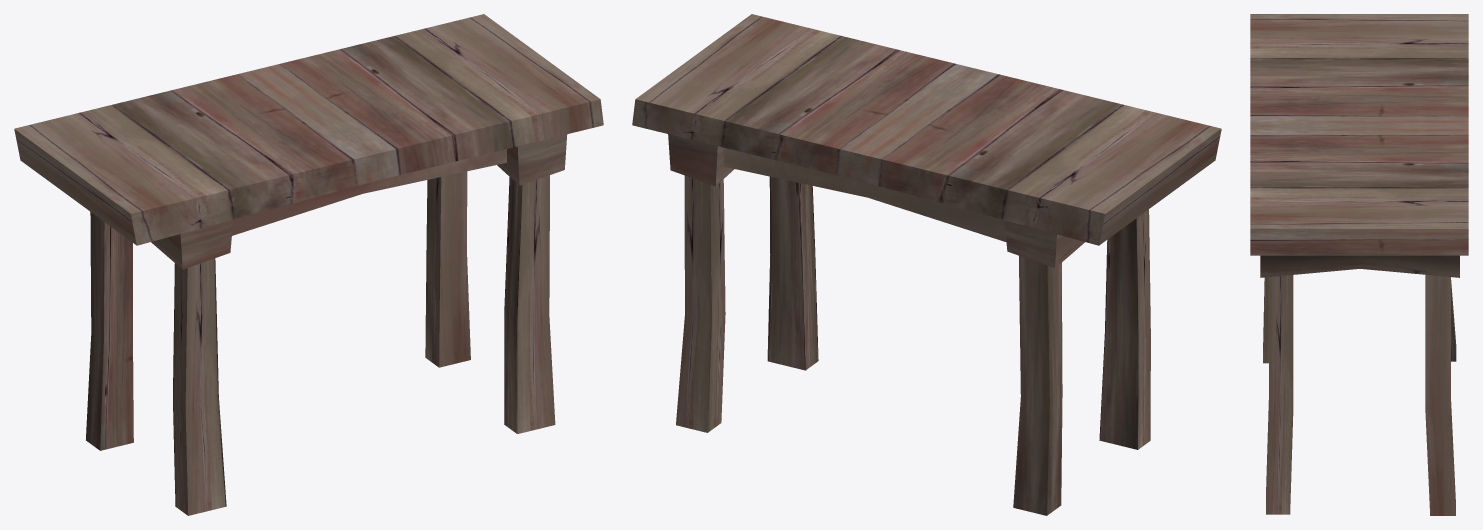
The model's file is table_shanty.fbx.
The picture shows the model from 3 angles, left to right: view 1: azimuth 30°, elevation 25°; view 2: azimuth 150°, elevation 25°; view 3: azimuth 270°, elevation 25°; orthographic projection. The views are drawn at different scales.
Parts seen in each view (by area): view 1: polySurface14, polySurface19, polySurface18, polySurface54, polySurface55, polySurface15, polySurface16, polySurface56; view 2: polySurface14, polySurface54, polySurface55, polySurface19, polySurface18, polySurface15, polySurface16, polySurface56; view 3: polySurface14, polySurface55, polySurface18, polySurface56, polySurface19, polySurface54.
Boxes of the visible parts, x1=… form: polySurface14: x1=14, y1=14, x2=603, y2=245; polySurface19: x1=173, y1=258, x2=226, y2=515; polySurface18: x1=504, y1=175, x2=555, y2=433; polySurface54: x1=86, y1=212, x2=133, y2=450; polySurface55: x1=425, y1=171, x2=470, y2=367; polySurface15: x1=232, y1=149, x2=506, y2=235; polySurface16: x1=151, y1=220, x2=233, y2=269; polySurface56: x1=497, y1=134, x2=567, y2=185; polySurface14: x1=632, y1=14, x2=1221, y2=245; polySurface54: x1=1013, y1=256, x2=1062, y2=515; polySurface55: x1=676, y1=175, x2=725, y2=432; polySurface19: x1=1099, y1=209, x2=1150, y2=449; polySurface18: x1=767, y1=176, x2=818, y2=370; polySurface15: x1=723, y1=148, x2=1006, y2=242; polySurface16: x1=1004, y1=220, x2=1084, y2=268; polySurface56: x1=668, y1=134, x2=734, y2=186; polySurface14: x1=1250, y1=14, x2=1468, y2=255; polySurface55: x1=1425, y1=274, x2=1455, y2=515; polySurface18: x1=1266, y1=275, x2=1293, y2=514; polySurface56: x1=1260, y1=255, x2=1459, y2=277; polySurface19: x1=1263, y1=277, x2=1268, y2=363; polySurface54: x1=1451, y1=280, x2=1456, y2=361.
Bounding box in the file's own units: 456 × 297 × 194.
Materials: 1 (1 with a texture image).
